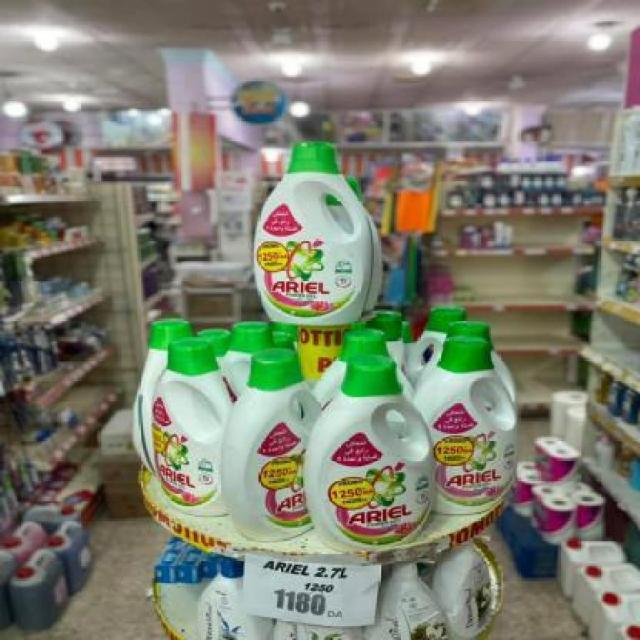Detergent: (308, 346, 437, 534), (252, 135, 363, 324), (425, 329, 517, 512), (230, 346, 314, 540), (153, 331, 227, 520)
